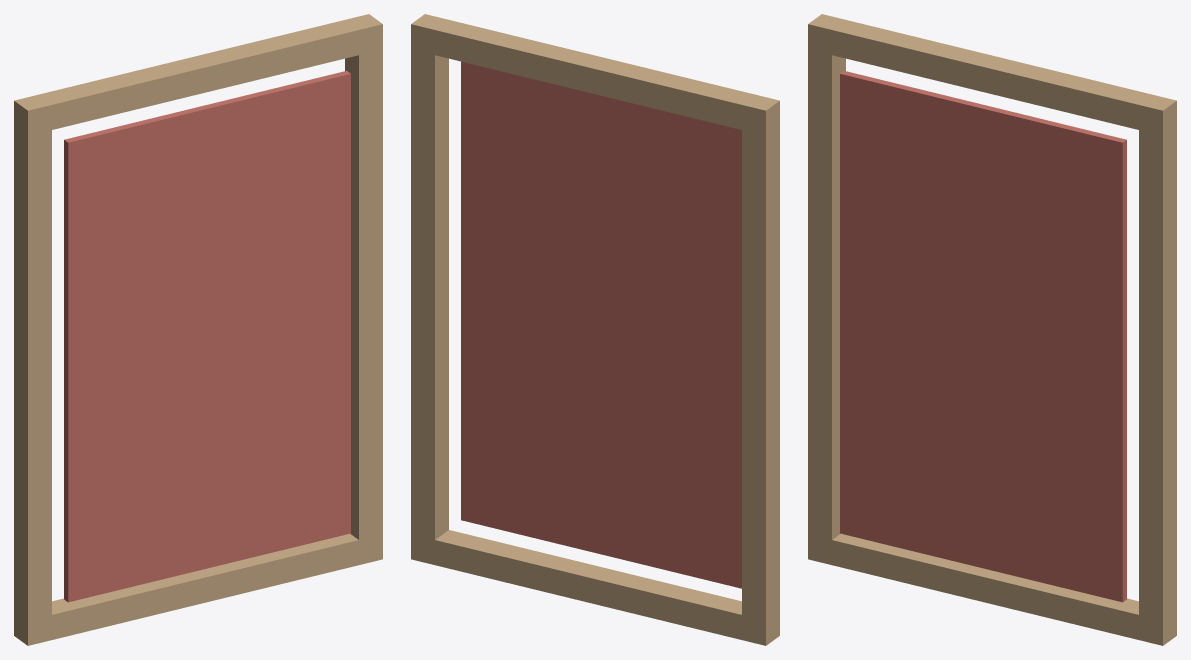
File: art_frame_06.glb
3 renders of one model, left to right at view 1: azimuth 30°, elevation 25°; view 2: azimuth 150°, elevation 25°; view 3: azimuth 330°, elevation 25°, orthographic.
Parts seen in each view (by area): view 1: art, v-0.275, v0.275, h0.81, h0; view 2: art, v-0.275, v0.275, h0.81, h0; view 3: art, v0.275, v-0.275, h0.81, h0.
Boxes of the visible parts, x1=… form: art: x1=64, y1=71, x2=350, y2=602; v-0.275: x1=14, y1=113, x2=51, y2=633; v0.275: x1=345, y1=37, x2=382, y2=552; h0.81: x1=14, y1=14, x2=382, y2=134; h0: x1=14, y1=533, x2=382, y2=645; art: x1=461, y1=61, x2=741, y2=588; v-0.275: x1=742, y1=113, x2=779, y2=633; v0.275: x1=411, y1=37, x2=448, y2=552; h0.81: x1=411, y1=14, x2=779, y2=135; h0: x1=411, y1=530, x2=779, y2=645; art: x1=840, y1=71, x2=1126, y2=602; v0.275: x1=1139, y1=113, x2=1176, y2=633; v-0.275: x1=808, y1=37, x2=845, y2=552; h0.81: x1=808, y1=14, x2=1176, y2=135; h0: x1=808, y1=533, x2=1176, y2=645.
Size of the model in its own units: 0.59 by 0.85 by 0.052.
